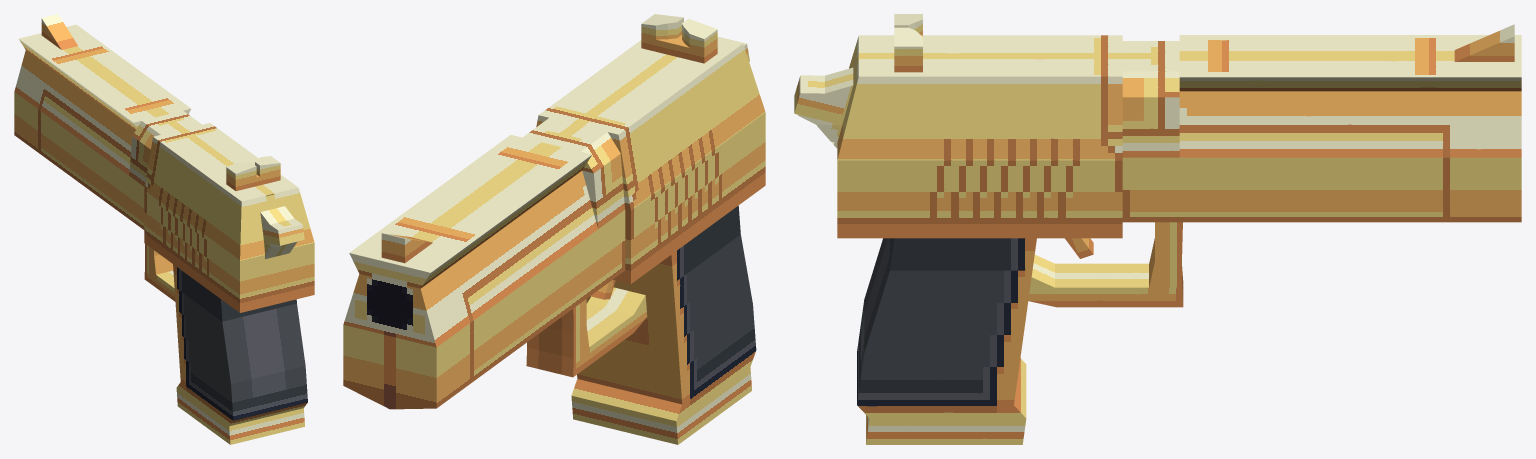
Rendered from desert-eagle-gold.gltf.
3 renders of one model, left to right at view 1: azimuth 30°, elevation 25°; view 2: azimuth 150°, elevation 25°; view 3: azimuth 270°, elevation 25°, orthographic. The views are drawn at different scales.
Visible parts, largest first — view 1: cube (×11); view 2: cube (×10); view 3: cube (×9).
Part boxes in pixels (bbox=[...]): cube (×11): bbox=[14, 14, 314, 444]; cube (×10): bbox=[343, 14, 765, 444]; cube (×9): bbox=[794, 24, 1521, 444].
Bounding box in the file's own units: 0.2813 × 0.9469 × 1.59.
Materials: 1 (1 with a texture image).
